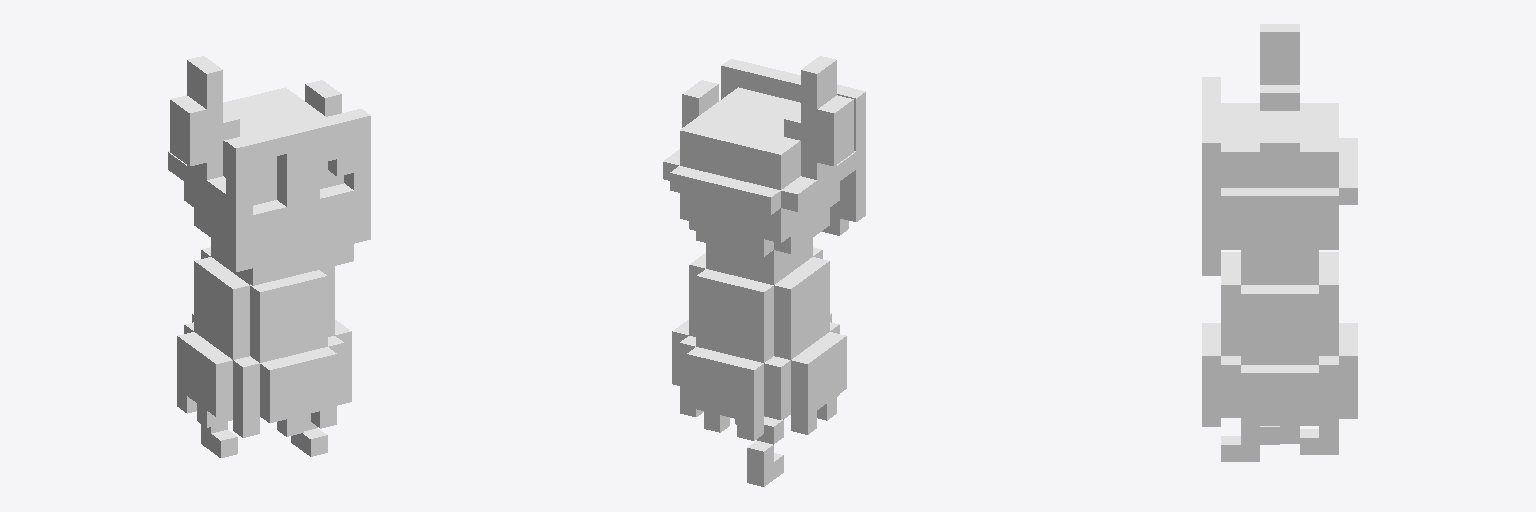
Rendered from Voxels-18.obj.
3 views of the same model, side by side, from view 1: azimuth 30°, elevation 25°; view 2: azimuth 150°, elevation 25°; view 3: azimuth 270°, elevation 25° (orthographic).
Parts seen in each view (by area): view 1: Voxels-18; view 2: Voxels-18; view 3: Voxels-18.
Part boxes in pixels (x1,y1,x2,y2): Voxels-18: (168, 56, 370, 457); Voxels-18: (663, 56, 865, 486); Voxels-18: (1202, 24, 1357, 461).
Bounding box in the file's own units: 9 × 23 × 8.